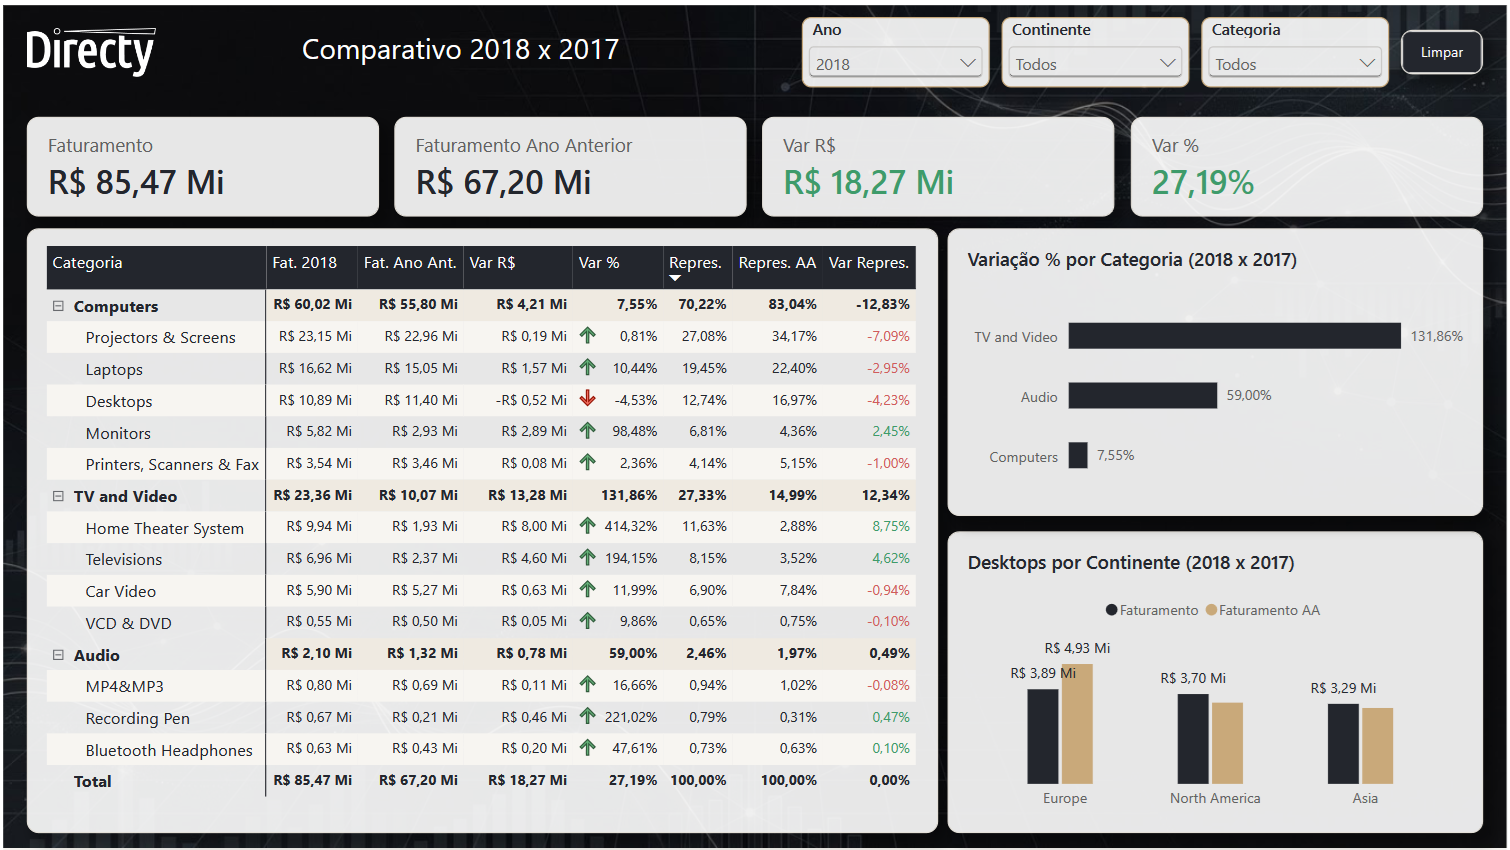

This screenshot's page, from the dashboard's own definition file:
{"tool":"powerbi","page":{"name":"Comparativo 2018 x 2017","canvas":[1280,720],"ordinal":1},"visuals":[{"type":"cardVisual","fields":{"Data":["_Medidas.Faturamento"]},"box":[20,95,300,85],"z":2000},{"type":"cardVisual","fields":{"Data":["_Medidas.Faturamento AA"]},"box":[333,95,300,85],"z":3000},{"type":"cardVisual","fields":{"Data":["_Medidas.Var R$"]},"box":[646,95,300,85],"z":4000},{"type":"cardVisual","fields":{"Data":["_Medidas.Var %"]},"box":[960,95,300,85],"z":5000},{"type":"pivotTable","fields":{"Rows":["dCategoria.Categoria","dProduto.Subcategoria"],"Values":["_Medidas.Faturamento","_Medidas.Faturamento AA","_Medidas.Var R$","_Medidas.Var %","_Medidas.% Representatividade","_Medidas.% Repres. AA","_Medidas.Var Repres. (p.p.)"]},"box":[20,190,776,515],"z":6000},{"type":"clusteredColumnChart","title":"Desktops por Continente (2018 x 2017)","fields":{"Category":["dContinente.Continente"],"Y":["_Medidas.Faturamento","_Medidas.Faturamento AA"]},"box":[804,448,456,257],"z":7000},{"type":"clusteredBarChart","title":"Variação % por Categoria (2018 x 2017)","fields":{"Category":["dCategoria.Categoria"],"Y":["_Medidas.Var %"]},"box":[804,190,456,245],"z":8000},{"type":"slicer","fields":{"Values":["dCalendario.Ano"]},"box":[680,10,160,60],"z":10000},{"type":"textbox","box":[145.6,20,487.8,40],"z":11000},{"type":"slicer","fields":{"Values":["dContinente.Continente"]},"box":[850,10,160,60],"z":12000},{"type":"slicer","fields":{"Values":["dCategoria.Categoria"]},"box":[1020,10,160,60],"z":13000},{"type":"image","box":[20,19,110,42],"z":14000},{"type":"actionButton","box":[1190,21,70,38],"z":15000}]}

Visuals, with their boxes in screenshot pixels (x1, y1, x2, y2), scaled from the page's 1280x720 canvas onto the 1510x850 screenshot:
cardVisual - _Medidas.Faturamento: (24, 112, 378, 212)
cardVisual - _Medidas.Faturamento AA: (393, 112, 747, 212)
cardVisual - _Medidas.Var R$: (762, 112, 1116, 212)
cardVisual - _Medidas.Var %: (1132, 112, 1486, 212)
pivotTable - dCategoria.Categoria x dProduto.Subcategoria: (24, 224, 939, 832)
"Desktops por Continente (2018 x 2017)" clusteredColumnChart: (948, 529, 1486, 832)
"Variação % por Categoria (2018 x 2017)" clusteredBarChart: (948, 224, 1486, 514)
slicer - dCalendario.Ano: (802, 12, 991, 83)
textbox: (172, 24, 747, 71)
slicer - dContinente.Continente: (1003, 12, 1191, 83)
slicer - dCategoria.Categoria: (1203, 12, 1392, 83)
image: (24, 22, 153, 72)
actionButton: (1404, 25, 1486, 70)
